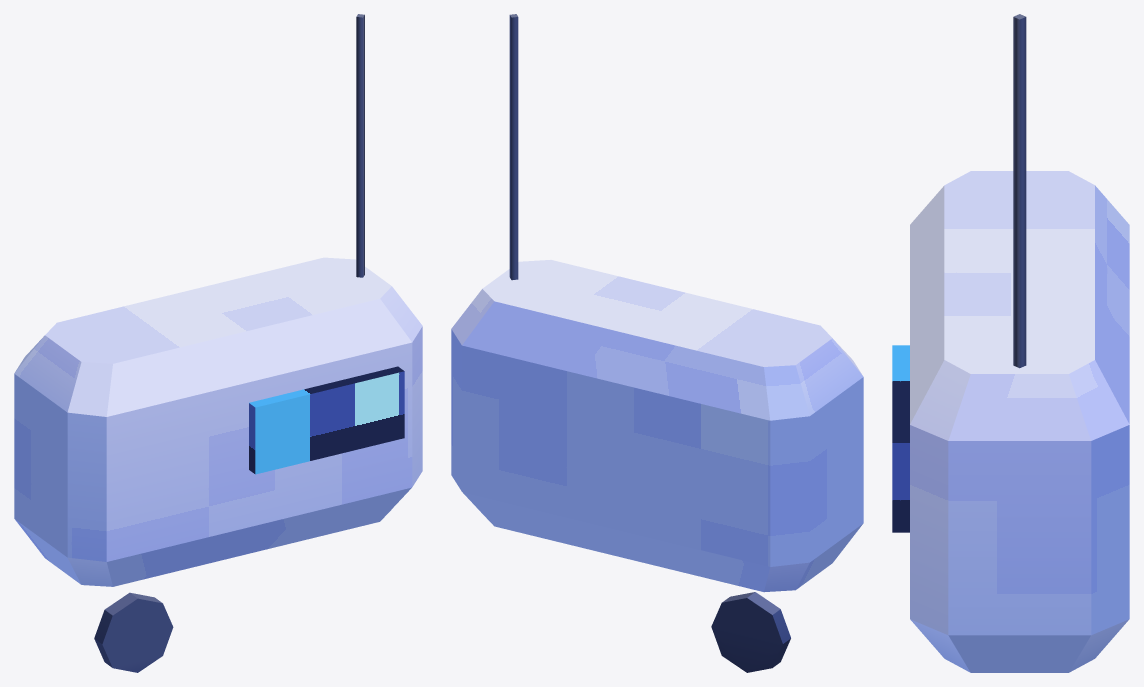
The model's file is prop.device.glb.
3 renders of one model, left to right at view 1: azimuth 30°, elevation 25°; view 2: azimuth 150°, elevation 25°; view 3: azimuth 270°, elevation 25°, orthographic. The views are drawn at different scales.
Parts seen in each view (by area): view 1: kit_device, kit_device_glow; view 2: kit_device; view 3: kit_device, kit_device_glow.
Part boxes in pixels (<box>): kit_device: <box>14,14,422,672</box>; kit_device_glow: <box>249,366,404,474</box>; kit_device: <box>451,14,863,672</box>; kit_device: <box>910,14,1129,672</box>; kit_device_glow: <box>892,345,909,532</box>.
Bounding box in the file's own units: 0.25 × 0.4 × 0.108.
3 materials, 2 textured.
